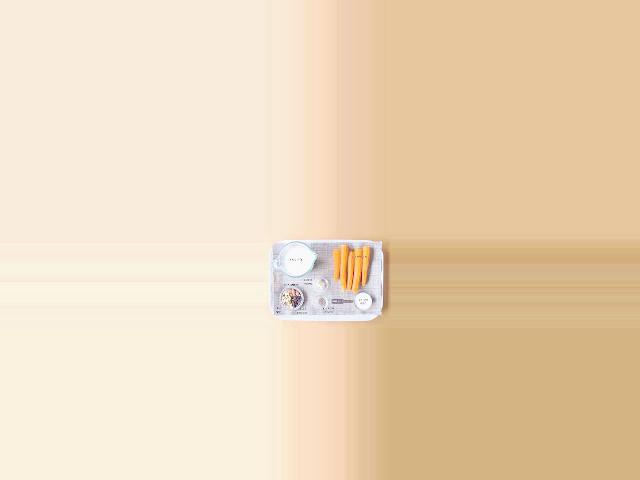carrot: (358, 245, 370, 287)
